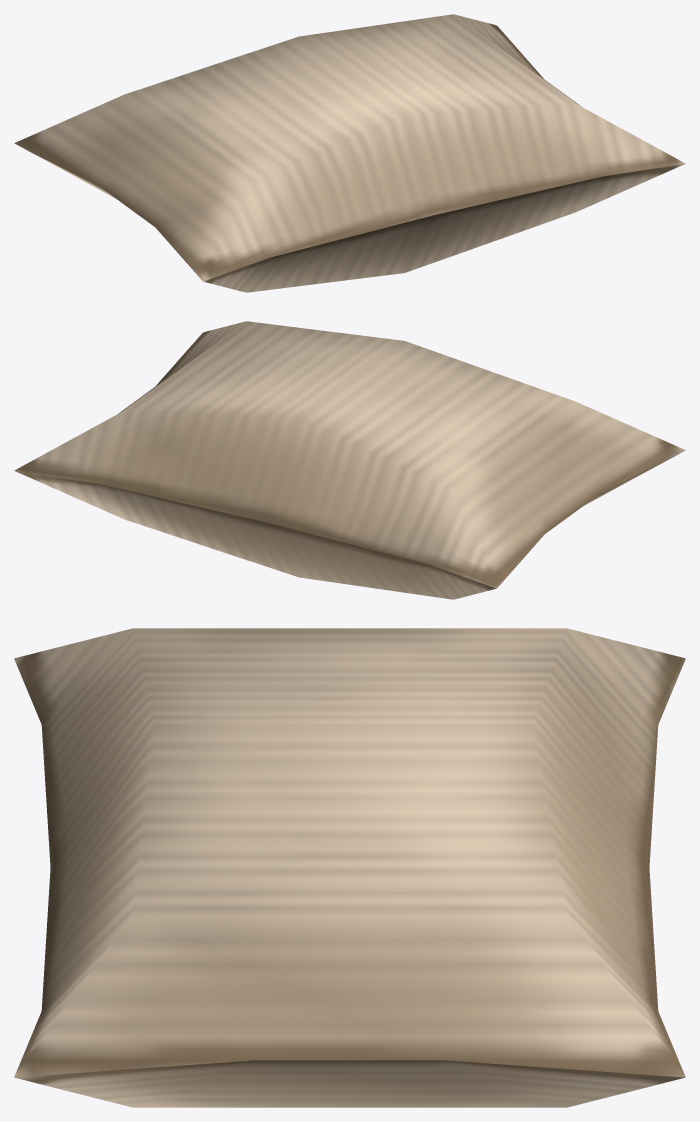
Rendered from AIR0110002.fbx.
3 views of the same model, one above another, from view 1: azimuth 30°, elevation 25°; view 2: azimuth 150°, elevation 25°; view 3: azimuth 270°, elevation 25° (orthographic). The views are drawn at different scales.
Parts seen in each view (by area): view 1: smAIR0110002; view 2: smAIR0110002; view 3: smAIR0110002.
Part boxes in pixels (left/top/right/bottom): smAIR0110002: left=14, top=14, right=685, bottom=292; smAIR0110002: left=14, top=321, right=685, bottom=599; smAIR0110002: left=14, top=628, right=685, bottom=1107.
Bounding box in the file's own units: 80.46 × 25.29 × 54.52.
Materials: 1 (1 with a texture image).
